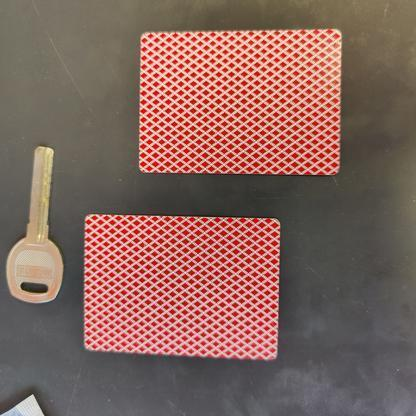card: (75, 210, 285, 365), (135, 24, 345, 179)
